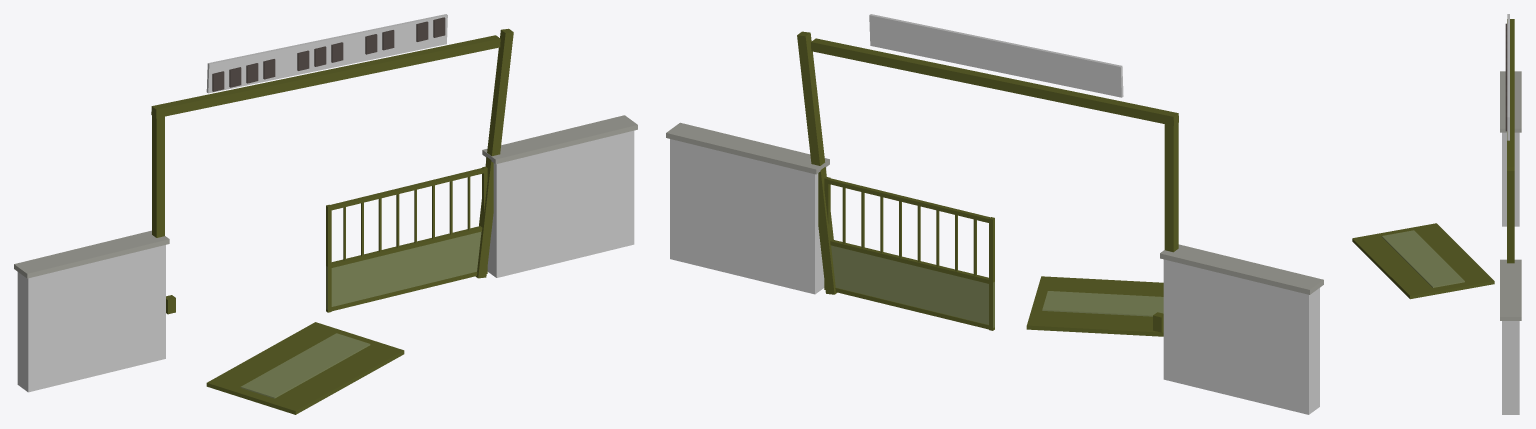
File: SM_PuertaValla_v4_LOD0.fbx
3 renders of one model, left to right at view 1: azimuth 30°, elevation 25°; view 2: azimuth 150°, elevation 25°; view 3: azimuth 270°, elevation 25°, orthographic. The views are drawn at different scales.
Parts seen in each view (by area): view 1: SM_bloques.puerta_valla_v4_LOD0, Hoja_E; view 2: SM_bloques.puerta_valla_v4_LOD0, Hoja_E; view 3: SM_bloques.puerta_valla_v4_LOD0.
Part boxes in pixels (box(x1,y1,x2,y2)): SM_bloques.puerta_valla_v4_LOD0: box(14, 14, 637, 414); Hoja_E: box(326, 166, 487, 312); SM_bloques.puerta_valla_v4_LOD0: box(666, 14, 1323, 414); Hoja_E: box(824, 177, 994, 330); SM_bloques.puerta_valla_v4_LOD0: box(1352, 14, 1521, 414).
Size of the model in its own units: 13.3 by 5.84 by 3.88.
